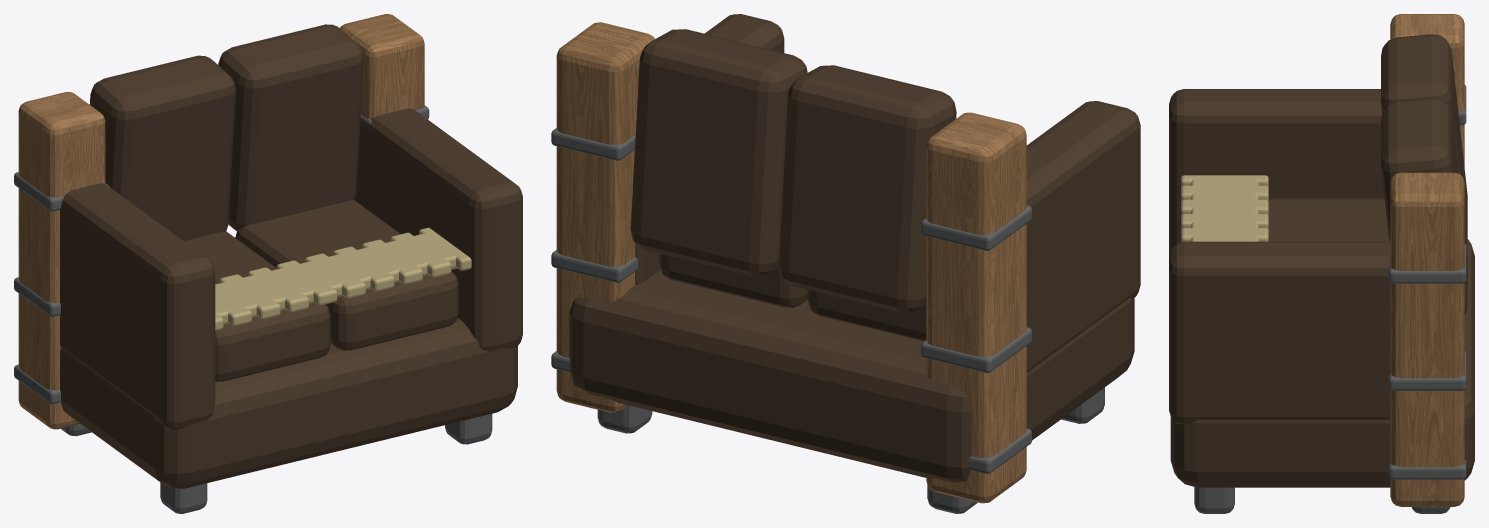
Rendered from hiperreal-hd.glb.
3 renders of one model, left to right at view 1: azimuth 30°, elevation 25°; view 2: azimuth 150°, elevation 25°; view 3: azimuth 270°, elevation 25°, orthographic. The views are drawn at different scales.
Visible parts, largest first — view 1: Upholstered base, Armrest, Back cushion.001, Armrest.001, Back cushion, Timber post, Seat cushion.001, Seat cushion, Timber post.001, Sofa foot.001, Sofa foot.003, Fur tufts.005 (+10 smaller); view 2: Upholstered base, Back cushion.001, Back cushion, Timber post, Armrest, Timber post.001, Seat cushion.001, Seat cushion, Armrest.001, Iron strap.001, Iron strap.002, Iron strap.004 (+5 smaller); view 3: Armrest.001, Timber post.001, Armrest, Upholstered base, Back cushion.001, Back cushion, Seat cushion, Timber post, Iron strap.005, Iron strap.004, Iron strap.003, Sofa foot.003 (+10 smaller).
Part boxes in pixels (<box>): Upholstered base: <box>60,318,517,488</box>; Armrest: <box>60,183,215,430</box>; Back cushion.001: <box>218,24,363,231</box>; Armrest.001: <box>354,108,522,351</box>; Back cushion: <box>89,55,235,240</box>; Timber post: <box>18,92,105,429</box>; Seat cushion.001: <box>235,200,458,350</box>; Seat cushion: <box>184,231,330,381</box>; Timber post.001: <box>340,14,424,119</box>; Sofa foot.001: <box>160,482,207,513</box>; Sofa foot.003: <box>445,413,492,444</box>; Fur tufts.005: <box>219,274,280,319</box>; Upholstered base: <box>569,270,1134,482</box>; Back cushion.001: <box>630,29,807,276</box>; Back cushion: <box>779,65,956,312</box>; Timber post: <box>926,112,1026,503</box>; Armrest: <box>1026,101,1140,372</box>; Timber post.001: <box>556,22,654,412</box>; Seat cushion.001: <box>659,253,807,307</box>; Seat cushion: <box>807,290,926,341</box>; Armrest.001: <box>635,14,784,285</box>; Iron strap.001: <box>921,327,1031,372</box>; Iron strap.002: <box>921,205,1031,250</box>; Iron strap.004: <box>551,250,638,282</box>; Armrest.001: <box>1169,241,1390,424</box>; Timber post.001: <box>1390,172,1464,506</box>; Armrest: <box>1169,89,1384,256</box>; Upholstered base: <box>1170,239,1474,487</box>; Back cushion.001: <box>1381,97,1467,314</box>; Back cushion: <box>1381,34,1467,246</box>; Seat cushion: <box>1268,198,1389,241</box>; Timber post: <box>1390,14,1464,166</box>; Iron strap.005: <box>1388,243,1466,283</box>; Iron strap.004: <box>1388,350,1466,390</box>; Iron strap.003: <box>1388,460,1466,479</box>; Sofa foot.003: <box>1194,487,1234,513</box>.
Bounding box in the file's own units: 1.47 × 1.26 × 1.01.
4 materials, 1 textured.
